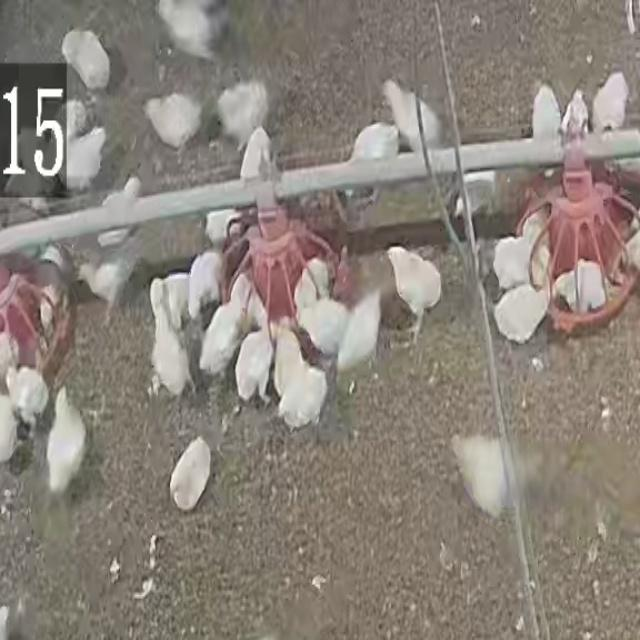chicken: (197, 274, 256, 380), (451, 432, 520, 520), (386, 249, 448, 335), (148, 280, 192, 399), (155, 1, 232, 66), (332, 283, 383, 379), (274, 343, 329, 432), (45, 388, 88, 498), (382, 80, 443, 154), (29, 228, 68, 328), (295, 291, 350, 361), (216, 80, 270, 150), (91, 177, 142, 249), (142, 91, 202, 151), (493, 283, 550, 344), (169, 435, 213, 512), (75, 257, 130, 318), (234, 328, 276, 406), (450, 173, 498, 241), (61, 123, 107, 193), (61, 28, 111, 92), (556, 260, 609, 315), (491, 230, 538, 291), (6, 365, 49, 430), (188, 249, 225, 321), (591, 71, 630, 133), (348, 122, 398, 165), (238, 126, 274, 182), (159, 271, 193, 329), (293, 259, 328, 314), (531, 85, 562, 142), (559, 89, 590, 139), (57, 98, 90, 144), (203, 207, 239, 247), (622, 217, 640, 280), (520, 209, 547, 249), (552, 269, 578, 307)
